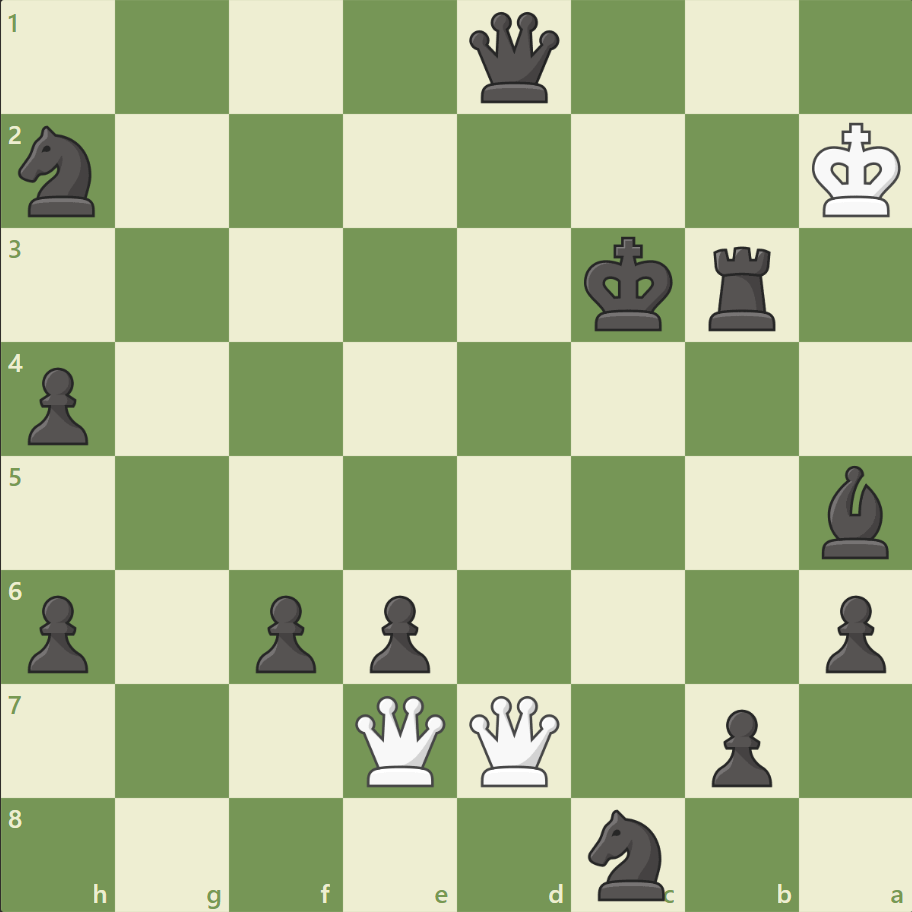K: (806, 117, 906, 225)
Q: (464, 690, 563, 789), (351, 690, 450, 789)
b: (812, 460, 896, 563)
k: (579, 231, 679, 339)
n: (579, 802, 676, 904), (11, 121, 108, 223)
p: (701, 700, 776, 791), (247, 586, 322, 677), (20, 586, 95, 677), (20, 359, 95, 450), (815, 586, 889, 677), (361, 586, 435, 677)
q: (464, 9, 563, 108)
r: (700, 239, 783, 336)
